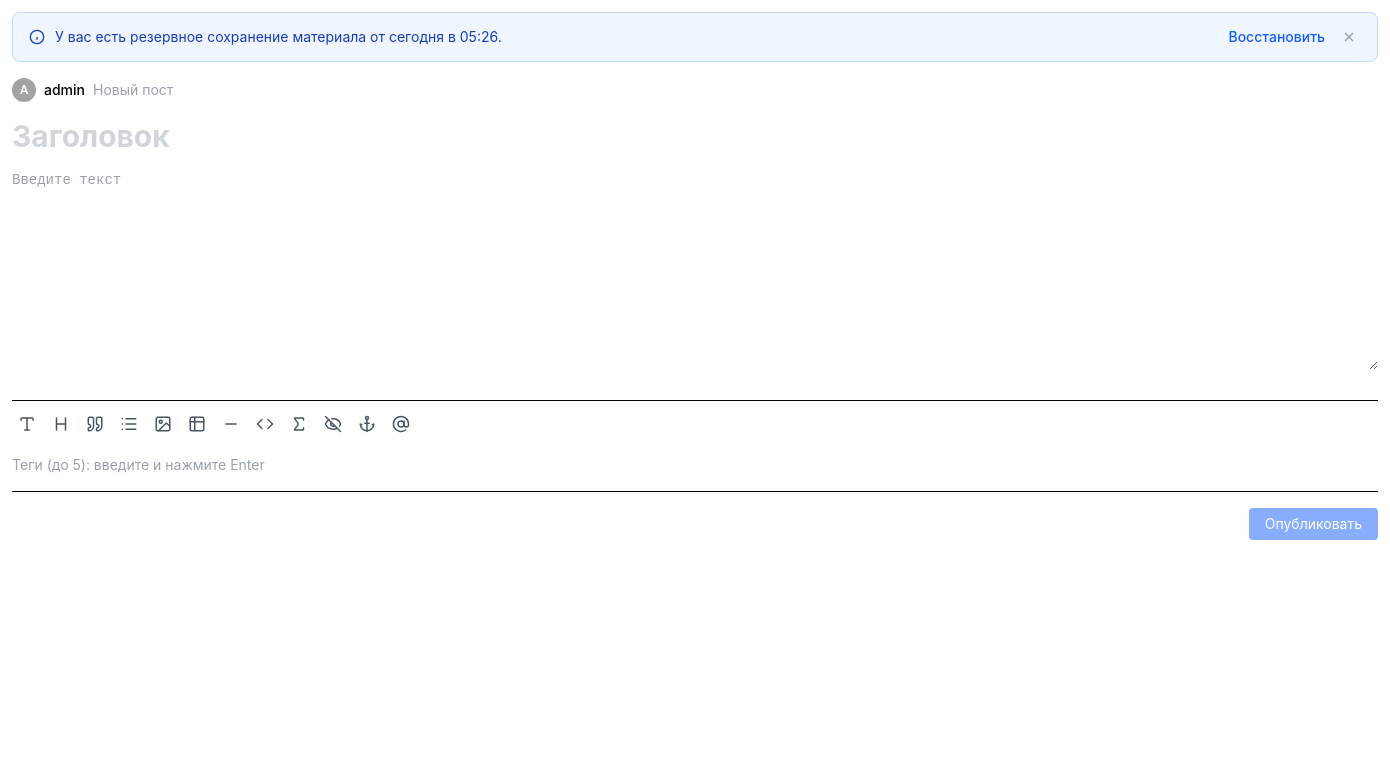
Test: PostComposer › восстанавливает заголовок и текст при клике 'Восстановить'
Click the button "Восстановить": [1277, 37] box [1228,27,1325,47]
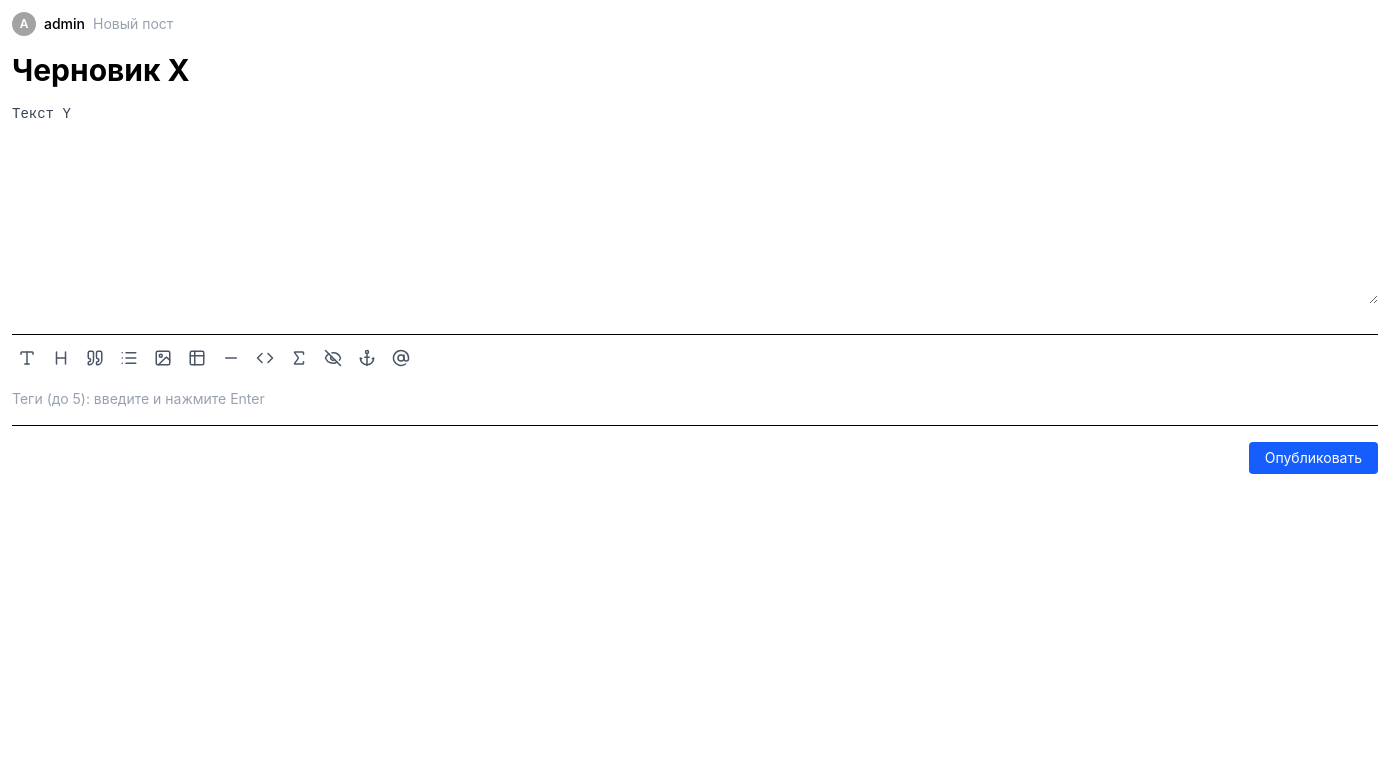
Expected: the field with placeholder "Заголовок" holds "Черновик X", [12,52,1378,88]
Expected: the text box with placeholder "Введите текст" holds "Текст Y", [12,104,1378,304]
Expected: the text "У вас есть резервное сохранение материала" is gone
